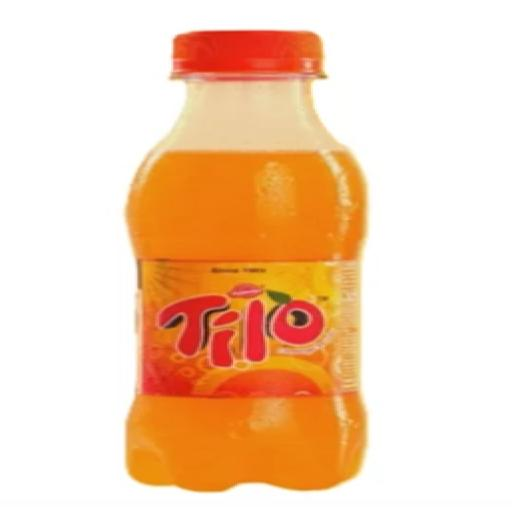Sprite: (126, 31, 366, 490)
